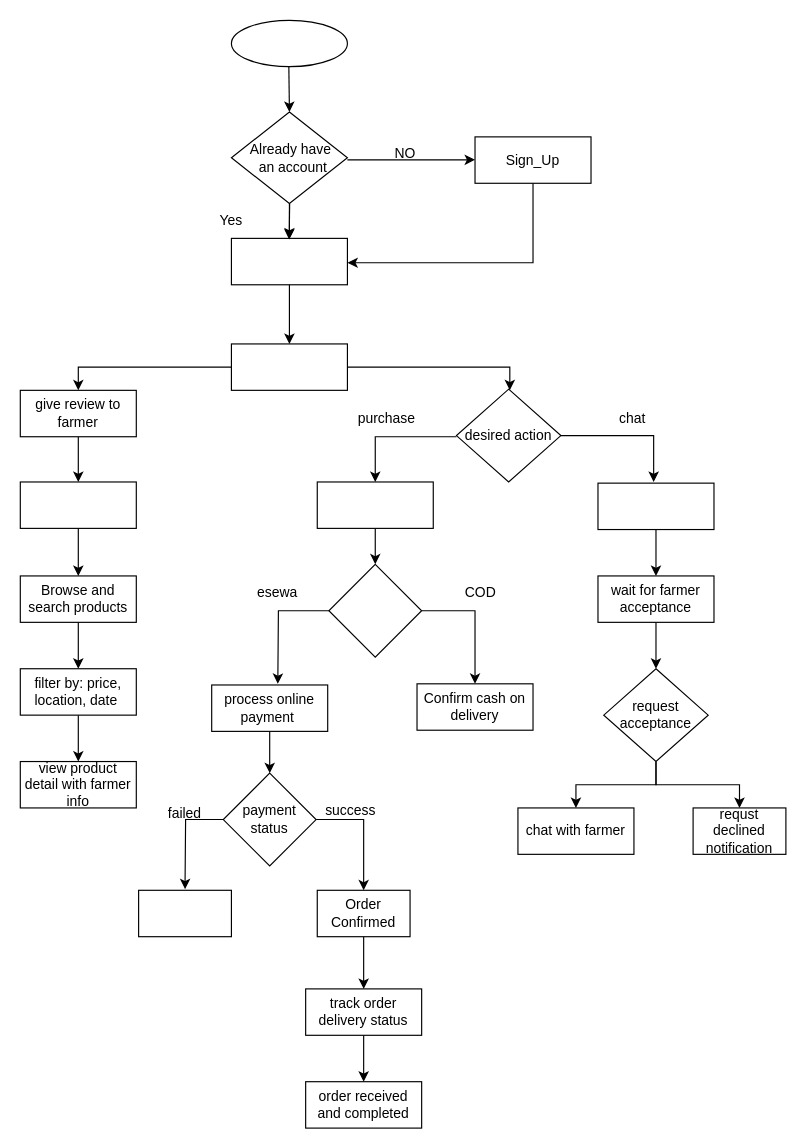
Image size: 806x1148. Some labels were removed from this diagram. The shapes that lost their labels are listed below. From the top down, each one's box as (x1, y1, x2, y2) in pixels, then its label:
(230, 19, 347, 67): Start
(230, 237, 347, 285): Login
(230, 343, 347, 390): Customer dashboard
(19, 481, 136, 528): view purchase history
(316, 481, 433, 528): select quantity and purchases
(597, 482, 714, 530): initiate chat request
(328, 563, 422, 657): Payment Method
(137, 889, 231, 937): Payment failed
